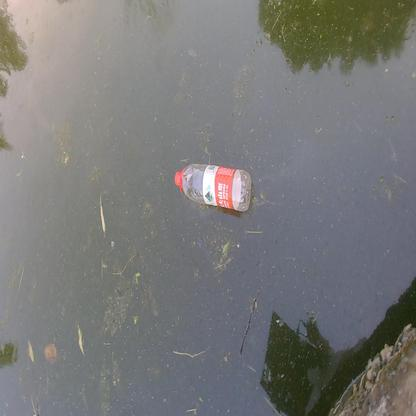plastic bottle: (174, 163, 251, 212)
